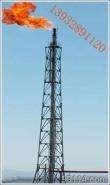fire: (1, 0, 51, 30)
